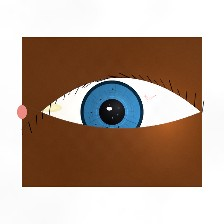pinguecula_lesion: (28, 90, 73, 126)
